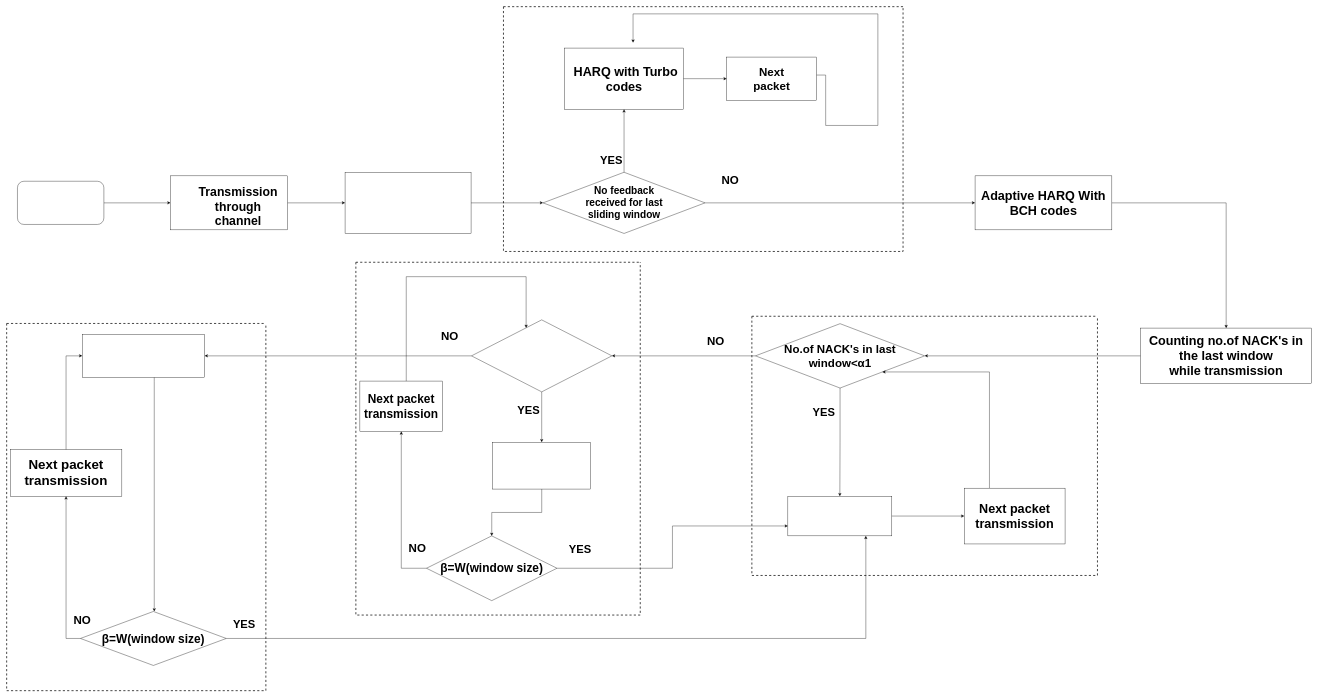
Some shapes in this 1318 by 697 pixel diagram are drawn without their labels. Here are the shapes that lost their labels. From the top down, the centre of each, then its label:
At pixel 60 202: "Data packets".
At pixel 408 202: "Packets of window size transmitted".
At pixel 143 355: "HARQ2 with BCH code(4599,2295)".
At pixel 541 356: "No.of NACK's in last window<α2".
At pixel 541 465: "HARQ1 with BCH code(4599,3447)".
At pixel 840 516: "Pure ARQ(GBN)".
